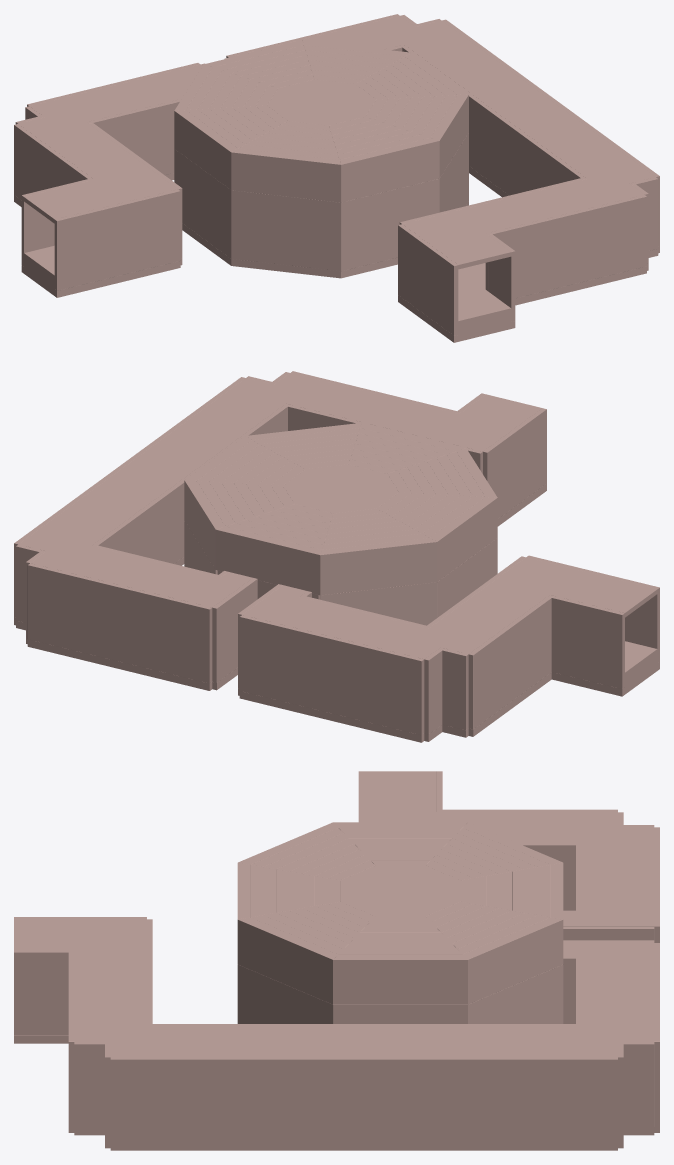
Rendered from octagonal_bath.glb.
3 views of the same model, one above another, from view 1: azimuth 30°, elevation 25°; view 2: azimuth 150°, elevation 25°; view 3: azimuth 270°, elevation 25° (orthographic). The views are drawn at different scales.
Parts seen in each view (by area): view 1: Bath_SouthRoute_Wall_007, Bath_WestRoute_Wall_002, Octagonal_WallFacet_06, Bath_SouthRoute_Wall_011, Octagonal_WallFacet_05, CeilingCoffer_Ring_01_Facet_06, Bath_SouthRoute_Roof_021, Bath_SouthRoute_Roof_026, Bath_SouthRoute_Wall_001, CeilingCoffer_Ring_01_Facet_05, Octagonal_WallFacet_07, CeilingCoffer_CenterCap (+45 smaller); view 2: Bath_SouthRoute_Wall_004, Bath_WestRoute_Wall_006, Bath_WestRoute_Wall_003, Bath_WestRoute_Wall_001, CeilingCoffer_Ring_01_Facet_08, Bath_SouthRoute_Roof_021, Bath_SouthRoute_Roof_026, Bath_SouthRoute_Wall_011, CeilingCoffer_Ring_01_Facet_01, Bath_SouthRoute_Wall_001, CeilingCoffer_CenterCap, CeilingCoffer_Ring_01_Facet_07 (+42 smaller); view 3: Bath_SouthRoute_Wall_012, CeilingCoffer_Ring_01_Facet_03, Bath_SouthRoute_Roof_021, Bath_SouthRoute_Roof_026, CeilingCoffer_CenterCap, CeilingCoffer_Ring_01_Facet_02, CeilingCoffer_Ring_01_Facet_04, Bath_SouthRoute_Wall_005, Bath_SouthRoute_WallFooting_012, Octagonal_WallFacet_04, Octagonal_WallFacet_02, Bath_WestRoute_Roof_000 (+61 smaller).
Boxes of the visible parts, x1,y1,x2,y2 form: Bath_SouthRoute_Wall_007: [485, 195, 646, 298]; Bath_WestRoute_Wall_002: [54, 189, 180, 290]; Octagonal_WallFacet_06: [231, 190, 340, 271]; Bath_SouthRoute_Wall_011: [400, 44, 586, 195]; Octagonal_WallFacet_05: [341, 178, 439, 271]; CeilingCoffer_Ring_01_Facet_06: [231, 148, 340, 202]; Bath_SouthRoute_Roof_021: [414, 45, 613, 178]; Bath_SouthRoute_Roof_026: [441, 39, 639, 172]; Bath_SouthRoute_Wall_001: [398, 224, 458, 335]; CeilingCoffer_Ring_01_Facet_05: [339, 138, 439, 202]; Octagonal_WallFacet_07: [174, 149, 231, 258]; CeilingCoffer_CenterCap: [267, 79, 376, 125]; Bath_SouthRoute_Wall_004: [27, 563, 212, 683]; Bath_WestRoute_Wall_006: [239, 615, 424, 735]; Bath_WestRoute_Wall_003: [468, 595, 553, 729]; Bath_WestRoute_Wall_001: [551, 596, 624, 688]; CeilingCoffer_Ring_01_Facet_08: [320, 538, 437, 595]; Bath_SouthRoute_Roof_021: [74, 397, 285, 538]; Bath_SouthRoute_Roof_026: [46, 390, 257, 531]; Bath_SouthRoute_Wall_011: [91, 403, 289, 563]; CeilingCoffer_Ring_01_Facet_01: [215, 526, 321, 595]; Bath_SouthRoute_Wall_001: [483, 408, 546, 518]; CeilingCoffer_CenterCap: [283, 464, 398, 513]; CeilingCoffer_Ring_01_Facet_07: [430, 497, 497, 581]; Bath_SouthRoute_Wall_012: [110, 1057, 617, 1142]; CeilingCoffer_Ring_01_Facet_03: [333, 954, 467, 1004]; Bath_SouthRoute_Roof_021: [147, 1026, 557, 1041]; Bath_SouthRoute_Roof_026: [147, 1042, 557, 1057]; CeilingCoffer_CenterCap: [340, 865, 460, 916]; CeilingCoffer_Ring_01_Facet_02: [463, 917, 563, 1004]; CeilingCoffer_Ring_01_Facet_04: [237, 917, 337, 1004]; Bath_SouthRoute_Wall_005: [14, 950, 68, 1034]; Bath_SouthRoute_WallFooting_012: [110, 1142, 617, 1150]; Octagonal_WallFacet_04: [237, 964, 332, 1023]; Octagonal_WallFacet_02: [468, 964, 563, 1023]; Bath_WestRoute_Roof_000: [364, 771, 436, 811].
Size of what is drawn, in the model's own units: 28.24 by 6.15 by 26.74.
